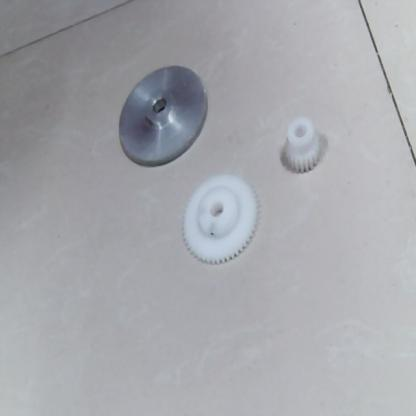FOD: (116, 61, 210, 170), (182, 172, 262, 269), (277, 117, 329, 172)
